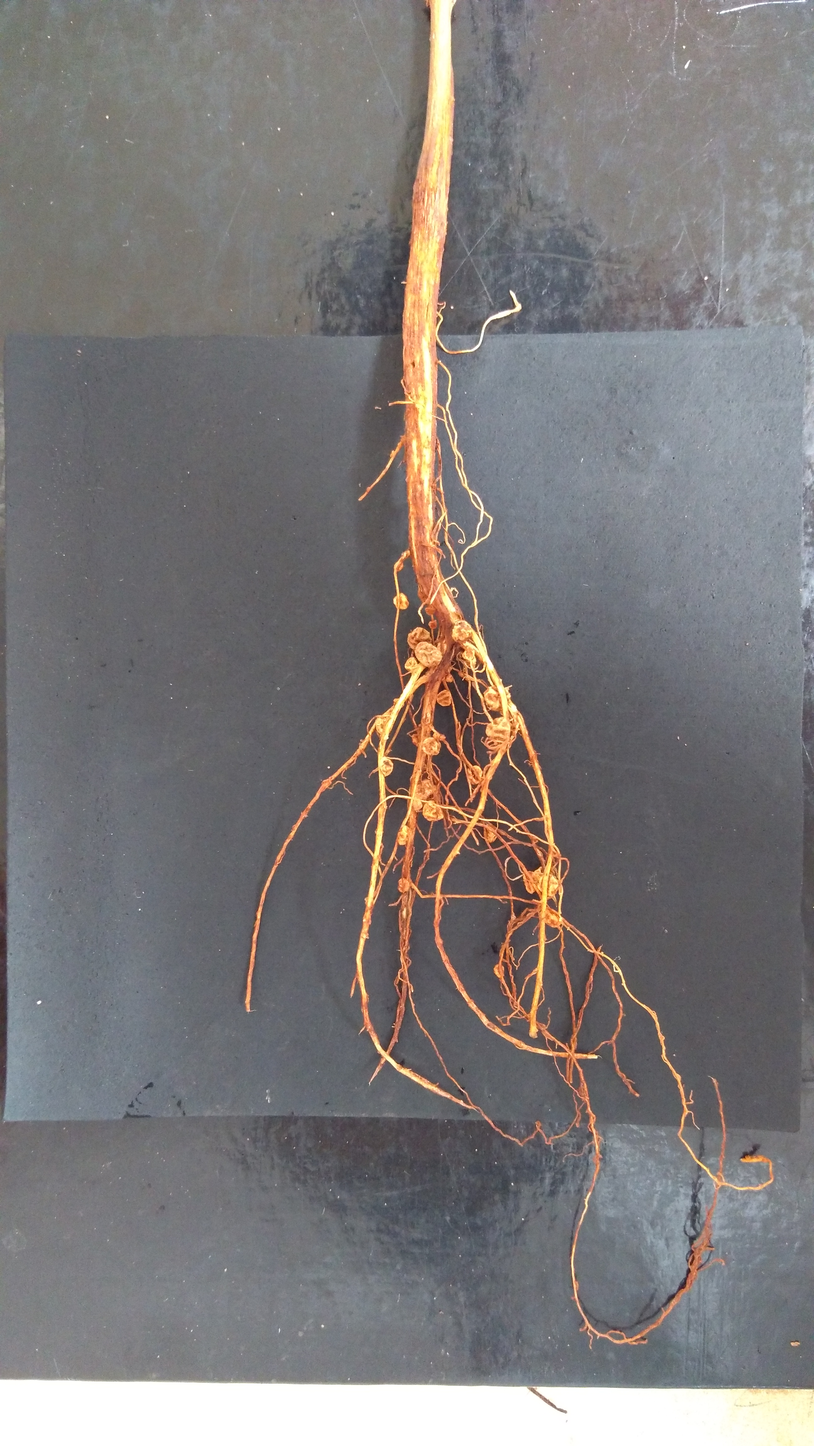nodule: (533, 866, 561, 897), (415, 641, 443, 668), (484, 686, 512, 711), (485, 717, 512, 742), (537, 902, 562, 928), (414, 779, 440, 803), (407, 627, 432, 650), (422, 799, 445, 822), (451, 619, 472, 643), (374, 714, 394, 735), (522, 870, 538, 895), (421, 736, 442, 755), (458, 647, 476, 669), (412, 792, 429, 812), (379, 756, 394, 778), (467, 765, 483, 785), (397, 825, 411, 846), (393, 593, 409, 610), (436, 689, 452, 706), (487, 824, 499, 844), (404, 657, 418, 674), (397, 877, 410, 893), (493, 963, 505, 977), (411, 733, 422, 746), (393, 697, 405, 708), (433, 732, 446, 741), (393, 561, 404, 571), (424, 607, 436, 616), (427, 620, 438, 629), (445, 672, 454, 683)
